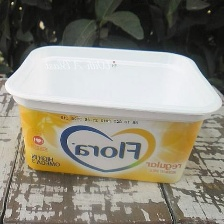plastic_box: (0, 37, 224, 188)
